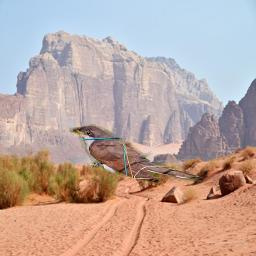Cuckoo: (68, 122, 206, 189)
